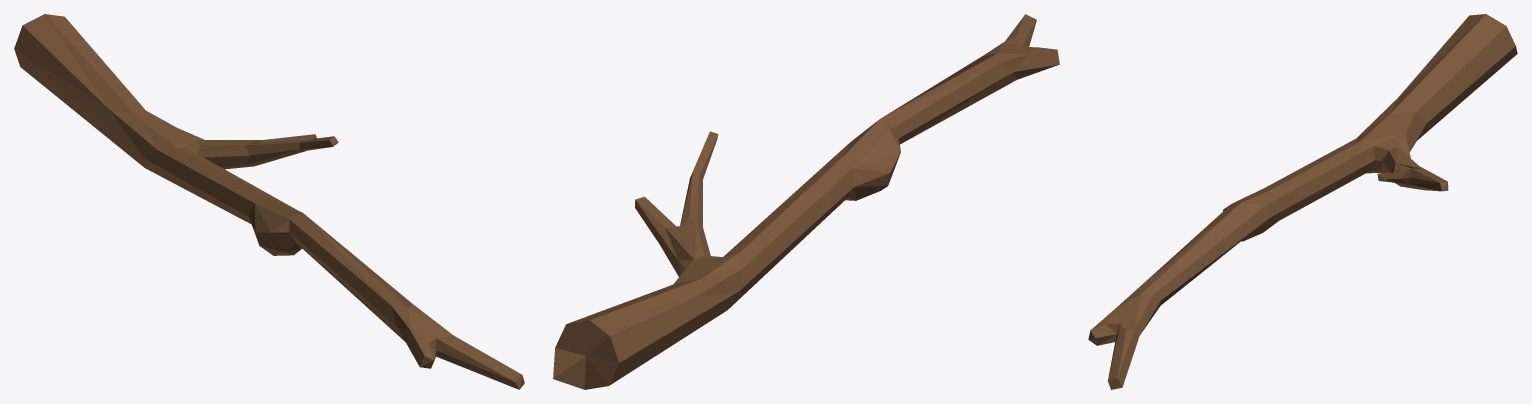
File: mesh_branch_pine_01.fbx
3 renders of one model, left to right at view 1: azimuth 30°, elevation 25°; view 2: azimuth 150°, elevation 25°; view 3: azimuth 330°, elevation 25°, orthographic. The views are drawn at different scales.
Parts seen in each view (by area): view 1: mesh_branch_pine_01; view 2: mesh_branch_pine_01; view 3: mesh_branch_pine_01.
Part boxes in pixels (bbox=[...]): mesh_branch_pine_01: bbox=[14, 14, 524, 389]; mesh_branch_pine_01: bbox=[553, 14, 1059, 389]; mesh_branch_pine_01: bbox=[1088, 14, 1517, 389].
Size of the model in its own units: 0.377 by 0.1854 by 2.02.
